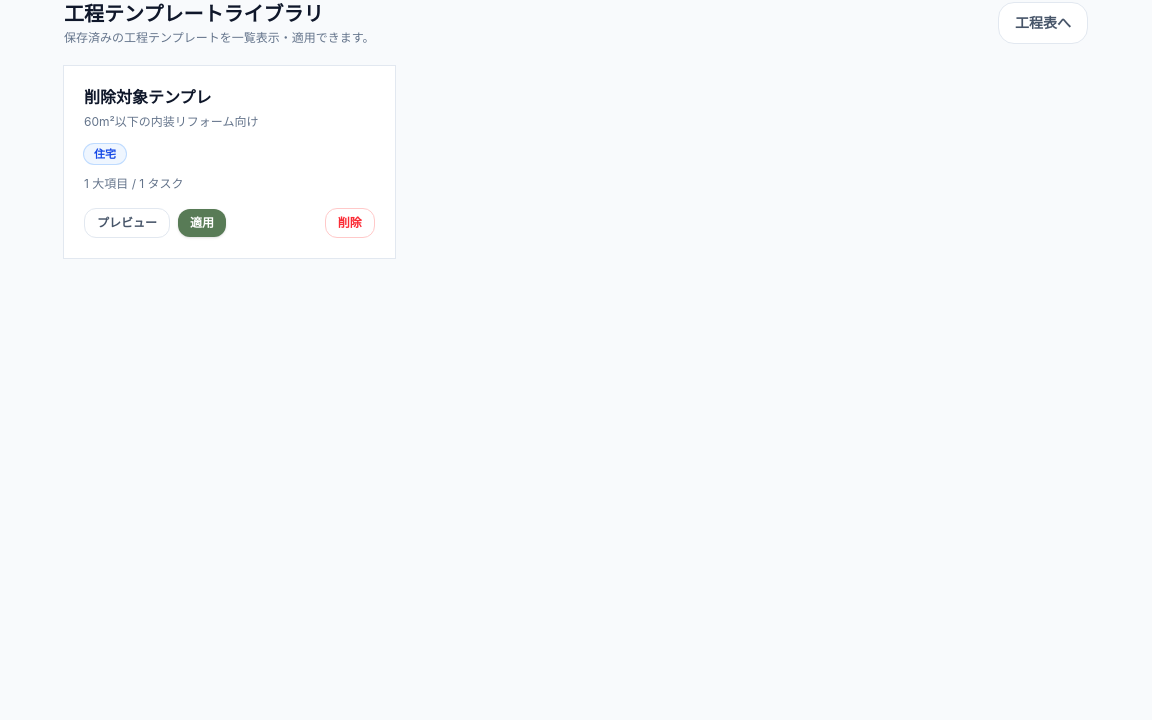
Test: PhaseTemplateLibraryPage — 削除 › 削除ボタンを押すとテンプレートが消える
This screenshot has width=1152, height=720.
Expected: the heading "削除対象テンプレ" is shown, x1=84 y1=87 x2=212 y2=107
# 削除ボタンをクリック → ConfirmDialog が開く
Click the button with aria-label "削除対象テンプレを削除". click: (350,223)
box: x1=325 y1=208 x2=375 y2=238
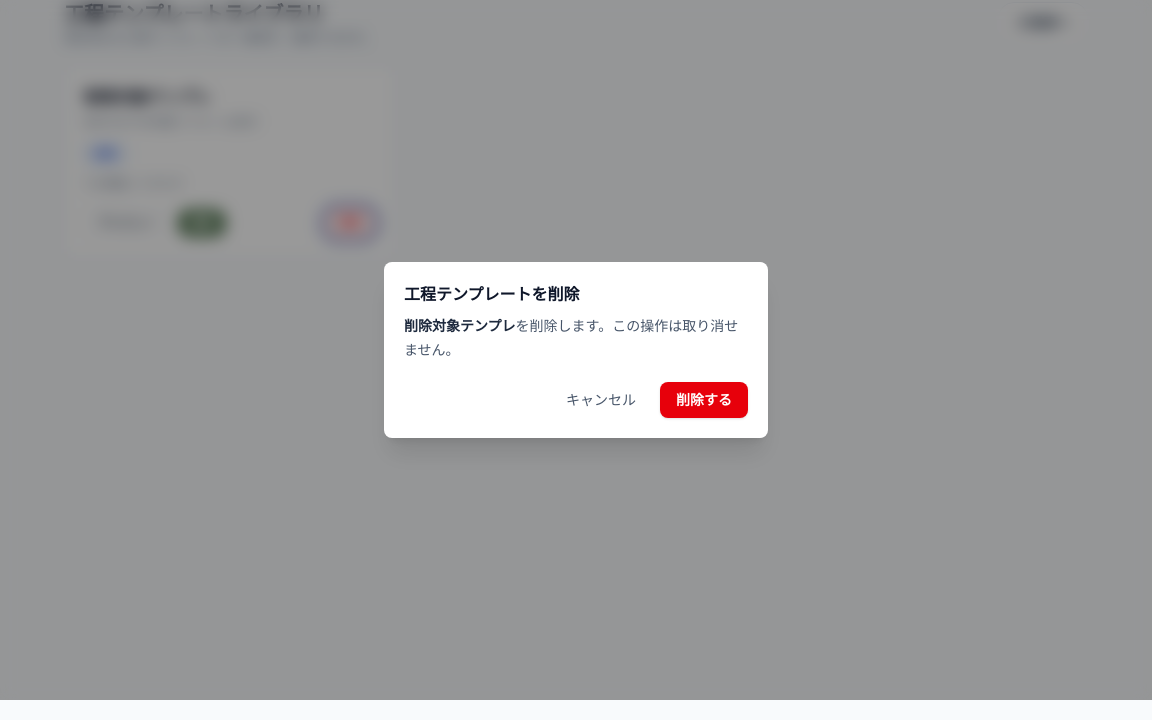
# ConfirmDialog の「削除する」ボタンで確定
Click the button "削除する". click: (704,400)
box: x1=660 y1=382 x2=748 y2=418
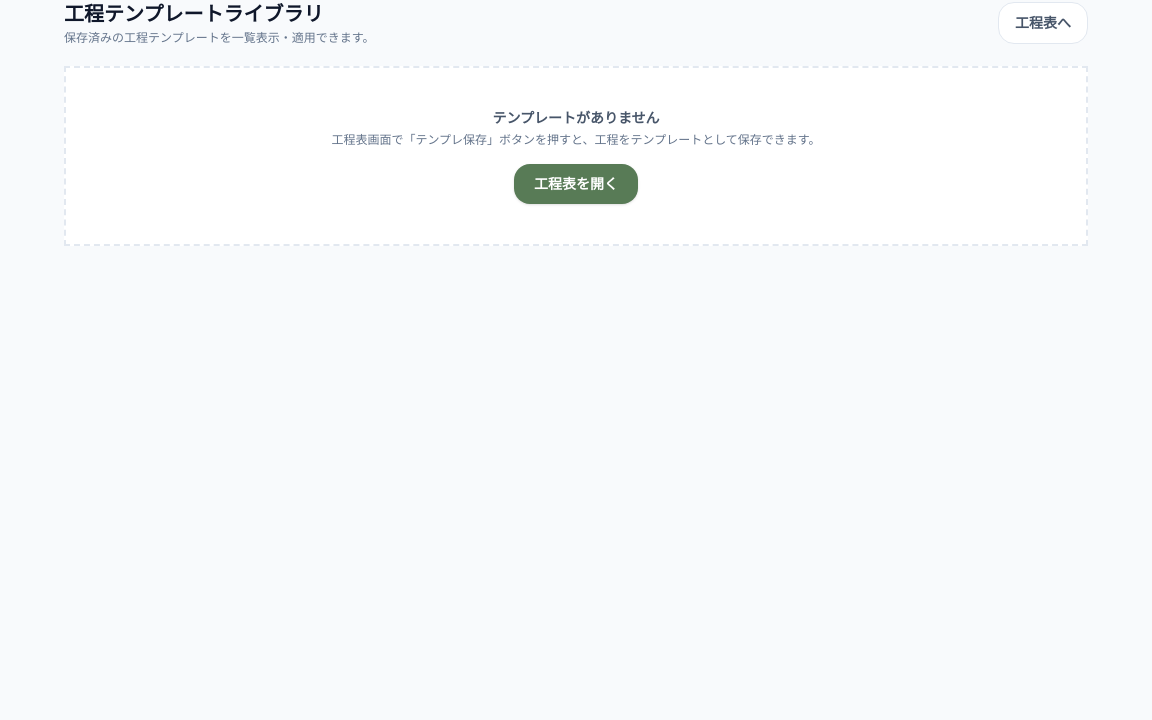
Result: the text "削除対象テンプレ" is not shown
